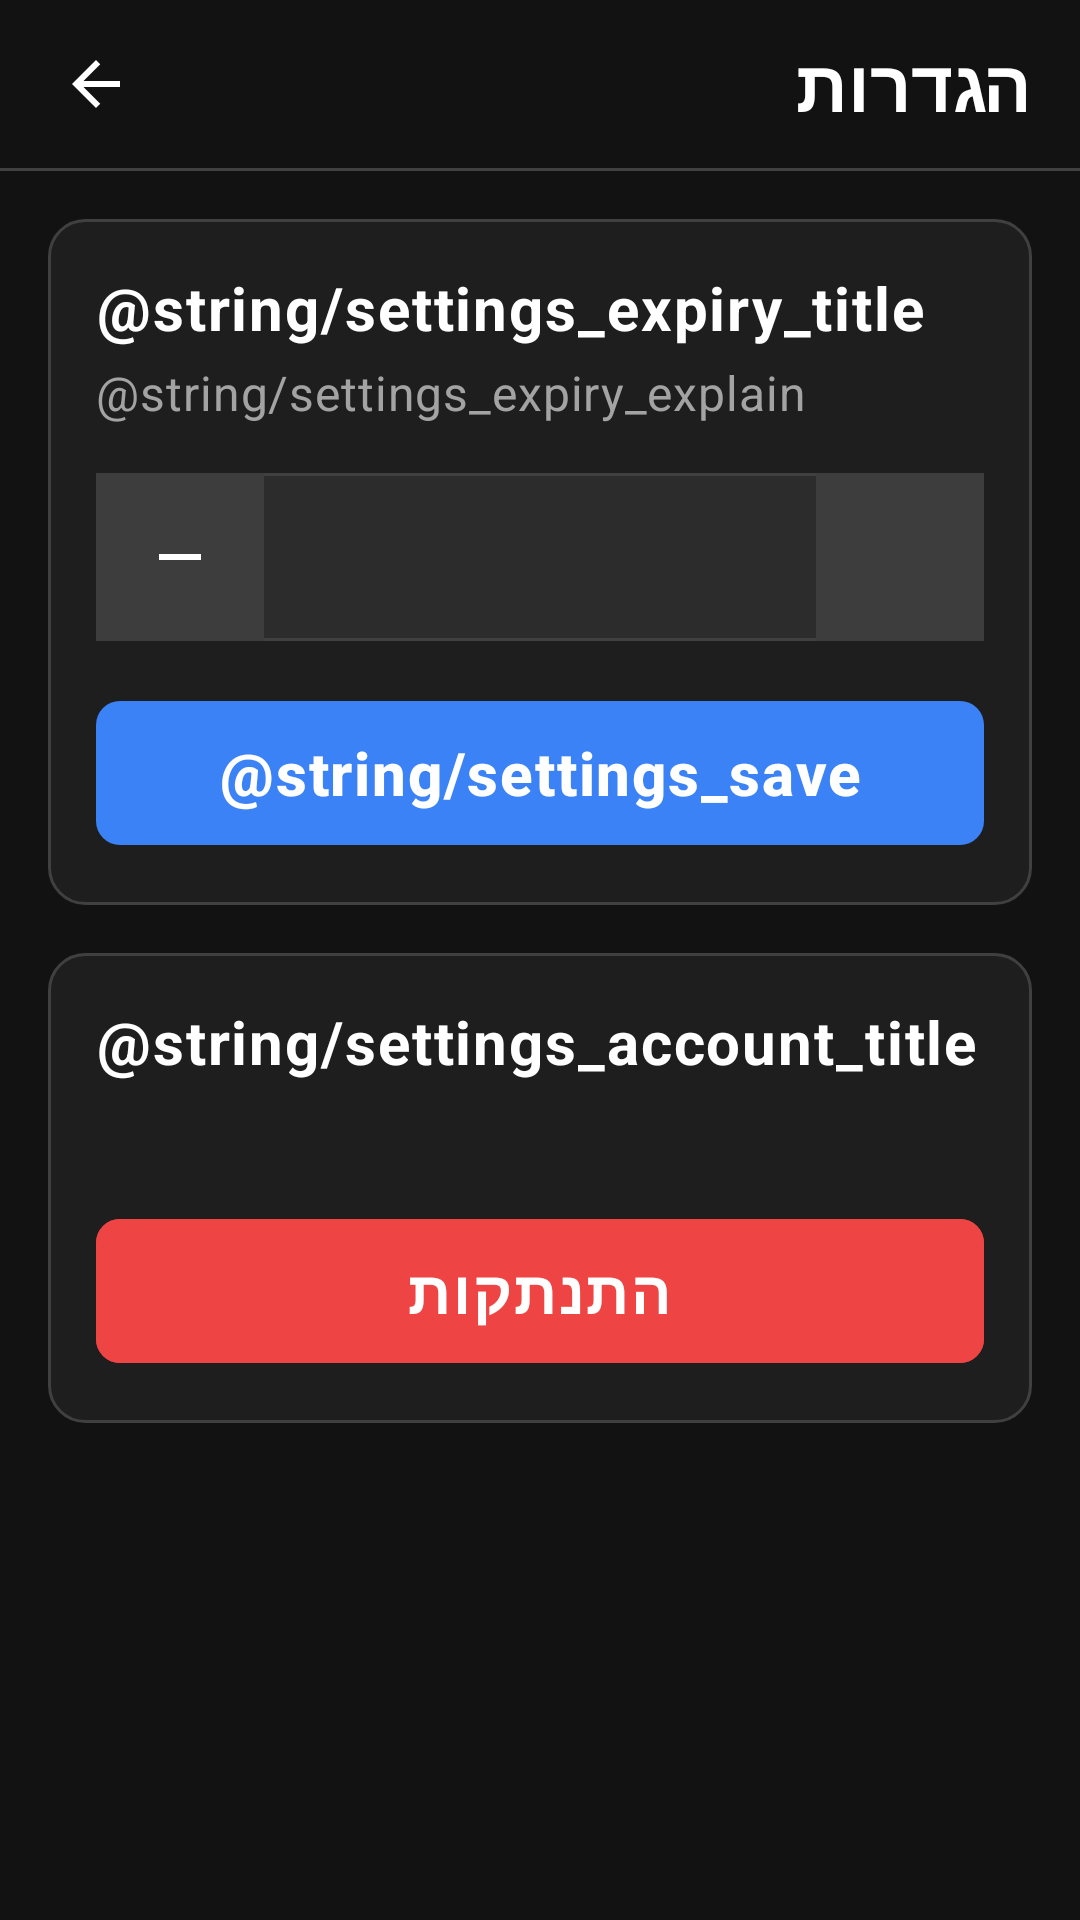

Where to tap for icons on this 1080×1920 app screen, as [x,y]:
arrow back: [96,84]
הקטנת כמות: [180,557]
